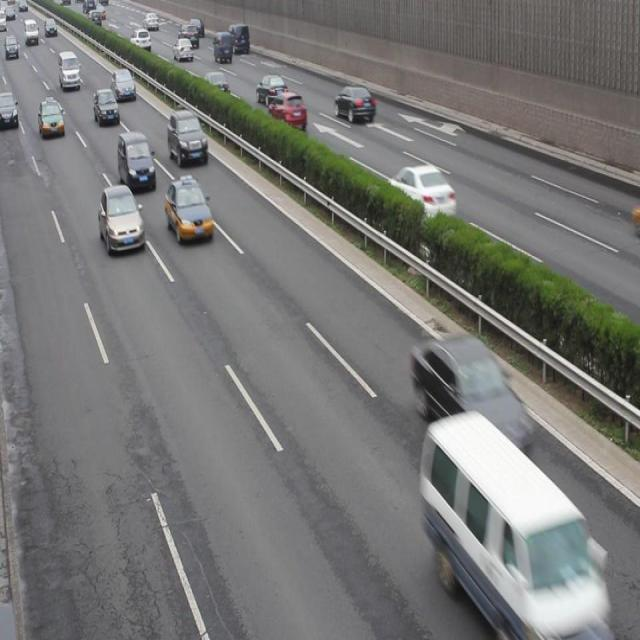car: (412, 334, 532, 448), (388, 164, 456, 220), (164, 175, 213, 242), (98, 186, 145, 254), (117, 132, 156, 188), (167, 111, 208, 164), (333, 88, 375, 123), (267, 90, 305, 128), (38, 100, 65, 138), (256, 74, 287, 106), (94, 90, 120, 125), (111, 70, 136, 102), (201, 73, 230, 99), (1, 92, 19, 128), (213, 32, 232, 63), (173, 38, 192, 64), (179, 25, 198, 50), (131, 30, 152, 52), (188, 20, 204, 36)
truck: (421, 413, 609, 640), (58, 52, 80, 91), (227, 22, 249, 54)
